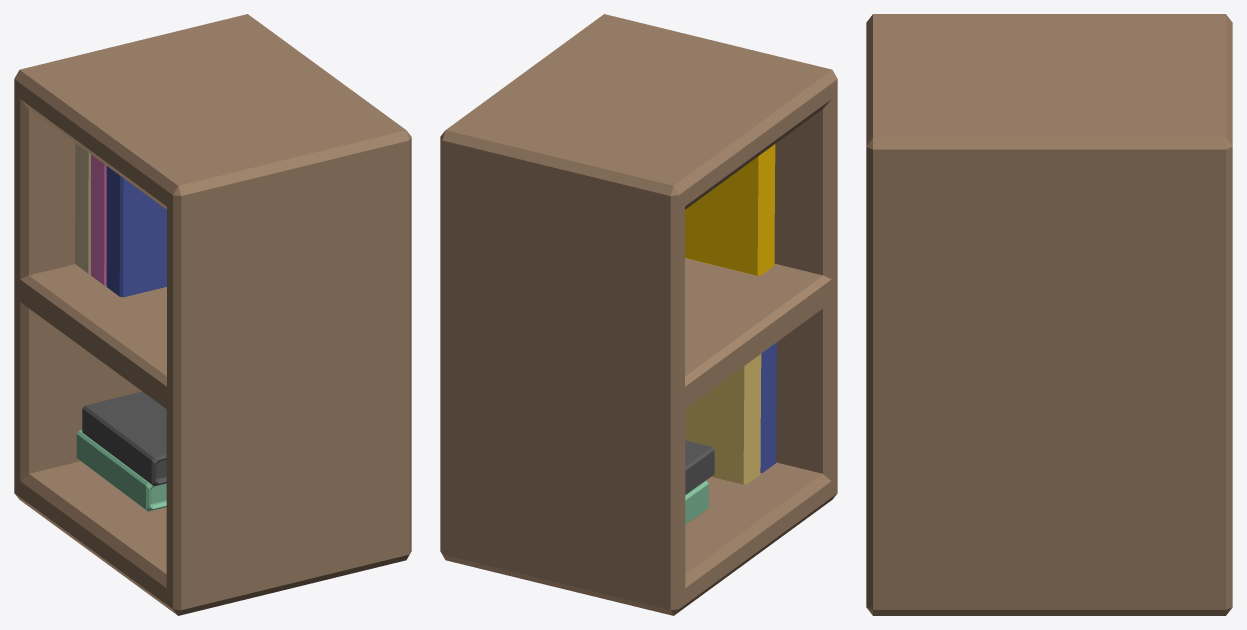
The model's file is Shelf.gltf.
The picture shows the model from 3 angles, left to right: view 1: azimuth 30°, elevation 25°; view 2: azimuth 150°, elevation 25°; view 3: azimuth 270°, elevation 25°; orthographic projection. The views are drawn at different scales.
Parts seen in each view (by area): view 1: Shelf; view 2: Shelf; view 3: Shelf.
Part boxes in pixels (box(x1,y1,x2,y2)): Shelf: box(14, 14, 411, 615); Shelf: box(440, 14, 837, 615); Shelf: box(866, 14, 1232, 615).
Bounding box in the file's own units: 3.61 × 6.22 × 4.32.
Materials: 8 (1 with a texture image).
